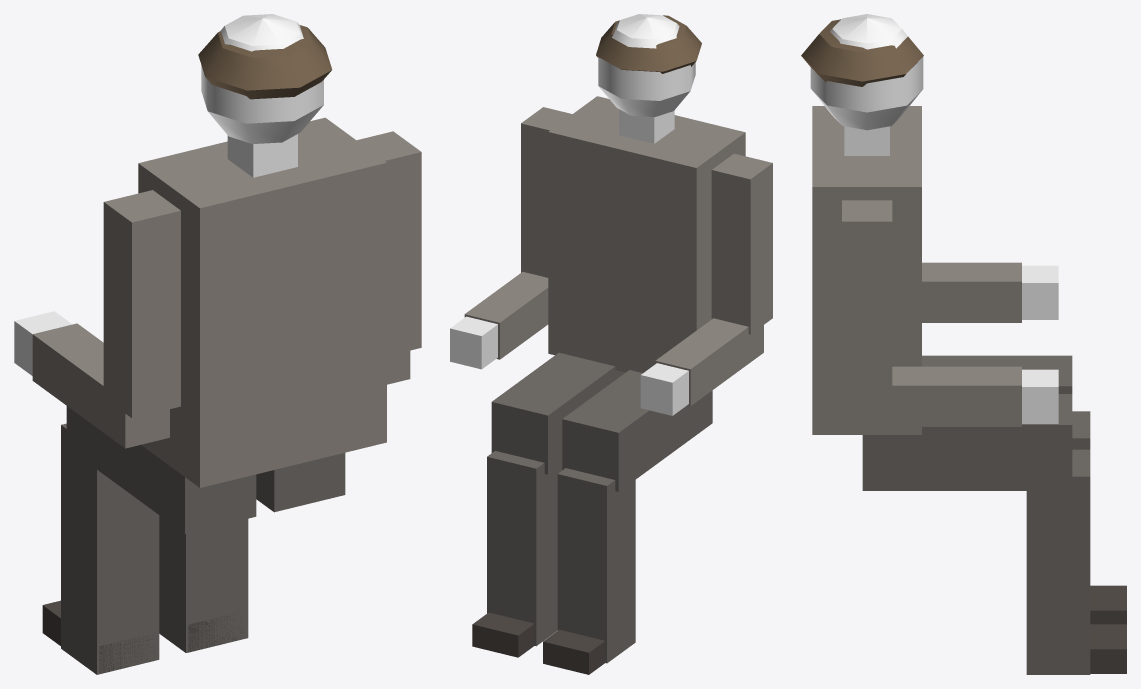
Rendered from patron_seated.glb.
3 views of the same model, side by side, from view 1: azimuth 30°, elevation 25°; view 2: azimuth 150°, elevation 25°; view 3: azimuth 270°, elevation 25° (orthographic). The views are drawn at different scales.
Parts seen in each view (by area): view 1: Patron; view 2: Patron; view 3: Patron.
Boxes of the visible parts, x1,y1,x2,y2 form: Patron: (14, 14, 421, 674); Patron: (450, 14, 772, 674); Patron: (801, 14, 1126, 674).
Bounding box in the file's own units: 0.65 × 1.51 × 0.715.
